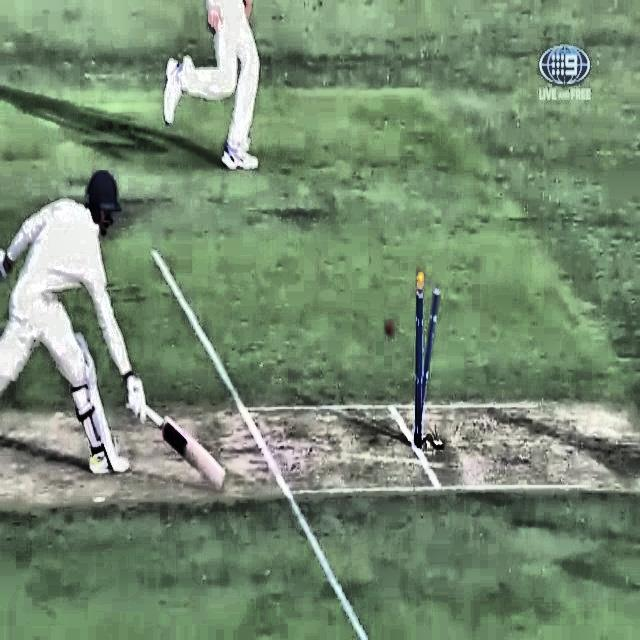Ball: (367, 315, 404, 340)
Bat: (121, 391, 235, 492)
Dis_Wicket: (403, 269, 444, 462)
Pitch_Line: (150, 246, 367, 640)
